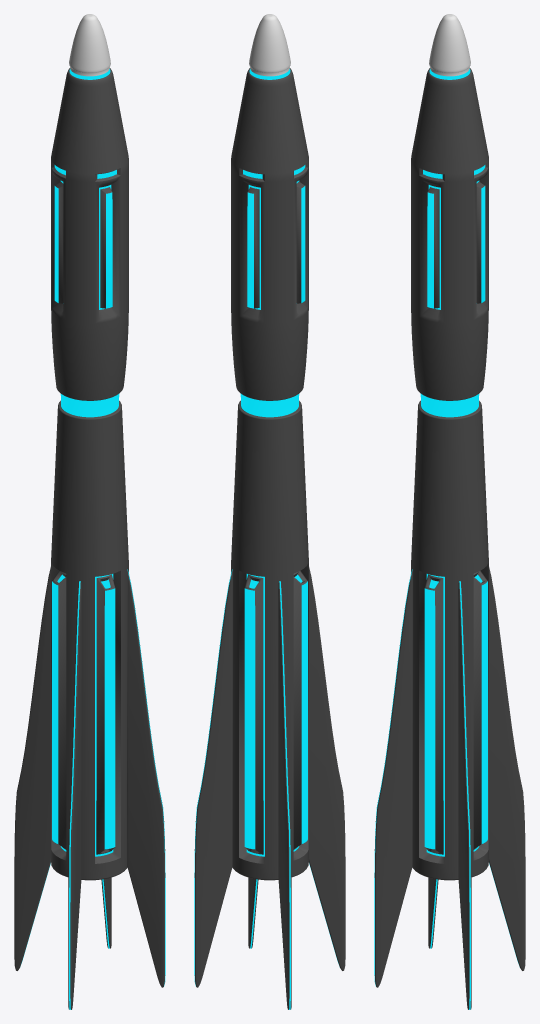
Rendered from Piercing Projectile.glb.
The picture shows the model from 3 angles, left to right: view 1: azimuth 30°, elevation 25°; view 2: azimuth 150°, elevation 25°; view 3: azimuth 330°, elevation 25°; orthographic projection.
Parts seen in each view (by area): view 1: missile, missile_wings; view 2: missile, missile_wings; view 3: missile, missile_wings.
Part boxes in pixels (<box>): missile: <box>51,14,128,880</box>; missile_wings: <box>14,567,165,1009</box>; missile: <box>231,14,308,880</box>; missile_wings: <box>194,567,345,1009</box>; missile: <box>411,14,488,880</box>; missile_wings: <box>374,567,525,1009</box>.
Size of the model in its own units: 0.1436 by 1.36 by 0.1436.
